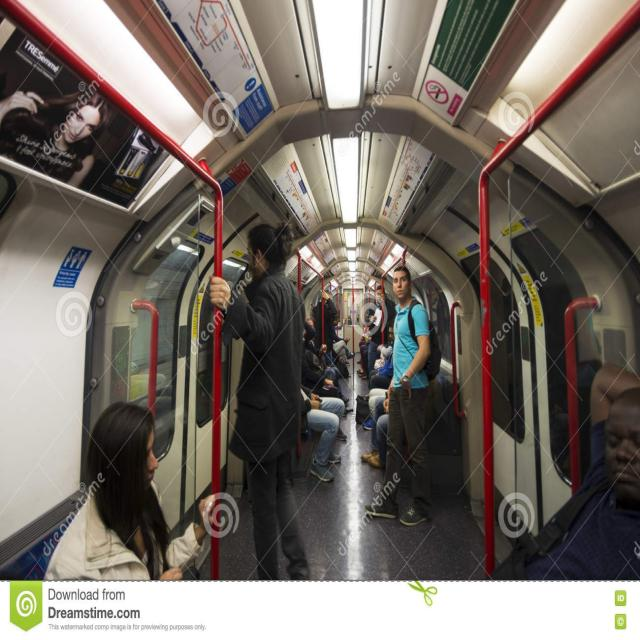body: (209, 223, 313, 580), (488, 363, 638, 582), (41, 400, 218, 581), (362, 266, 434, 527), (0, 72, 109, 187), (360, 374, 448, 472), (299, 383, 347, 483), (302, 316, 351, 408), (301, 327, 339, 398), (366, 284, 397, 371), (311, 288, 340, 368), (368, 320, 395, 391), (358, 381, 389, 427), (330, 316, 356, 368), (357, 322, 373, 378), (342, 405, 353, 418), (334, 311, 342, 324)
